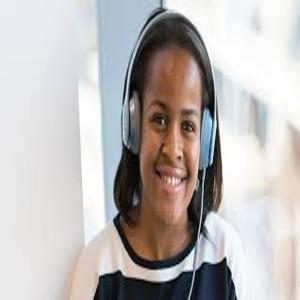Headphones: (118, 7, 219, 173)
